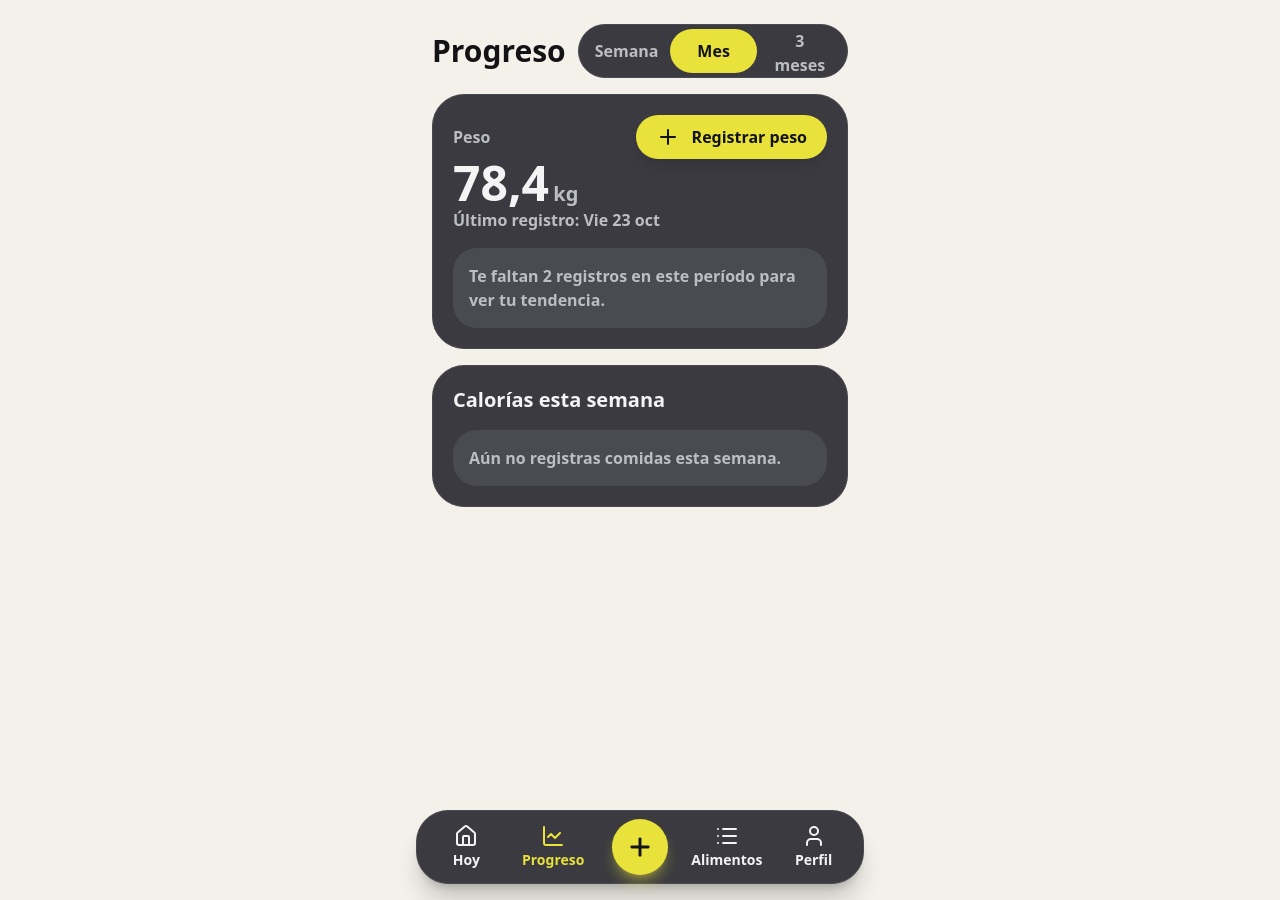
Scenario: ProgressPage › Registrar peso › saves today’s weight as an upsert, with a decimal comma (HU-13 CA1)
This screenshot has width=1280, height=900.
Click the button "Registrar peso".
click(731, 137)  # box [636,115,827,159]
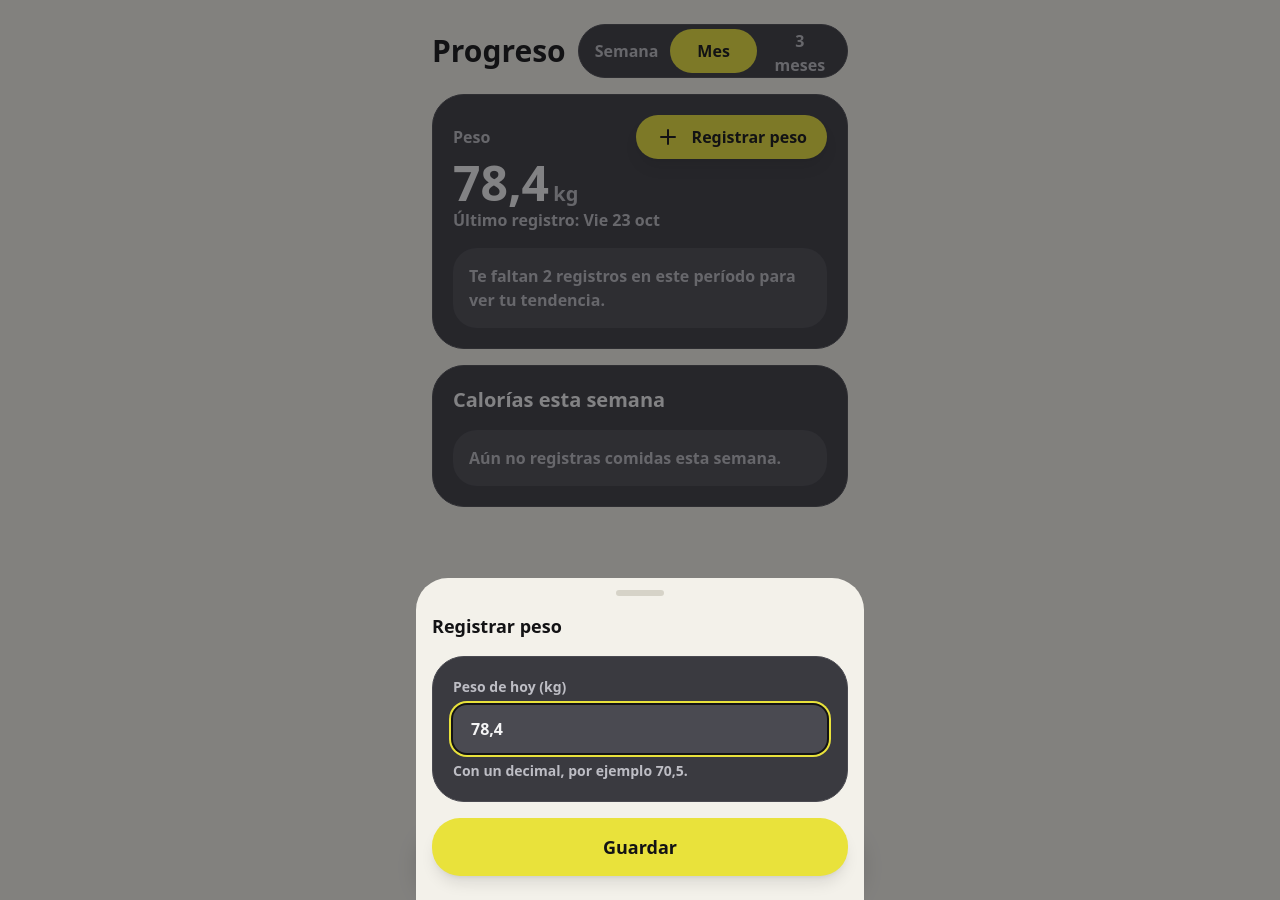
Expected: the field labelled "Peso de hoy (kg)" holds "78,4"
Replace the text in the field labelled "Peso de hoy (kg)" with "77,9" at [640, 729], box [453,705,827,753]
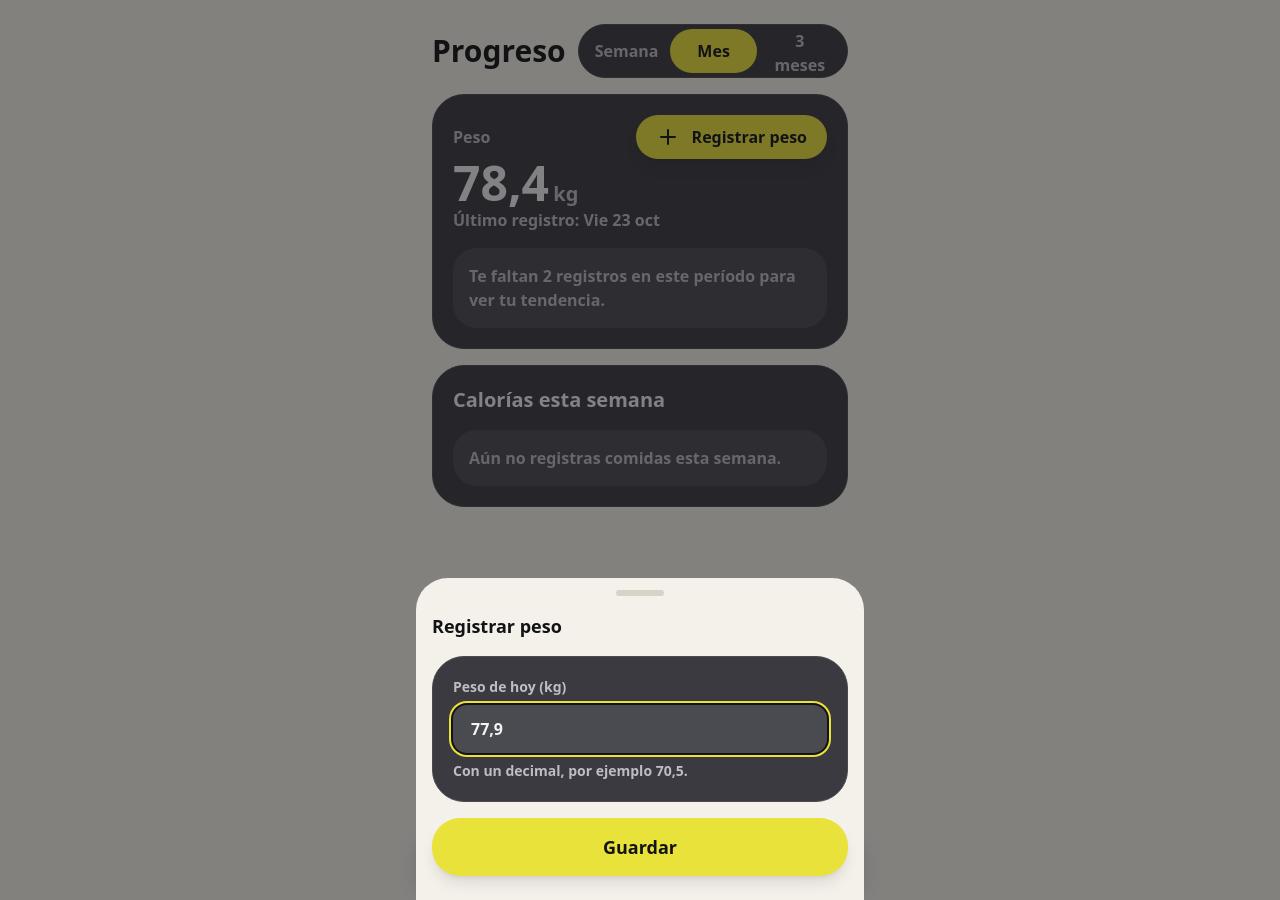
Click the button "Guardar".
click(640, 847)  # box [432,818,848,876]
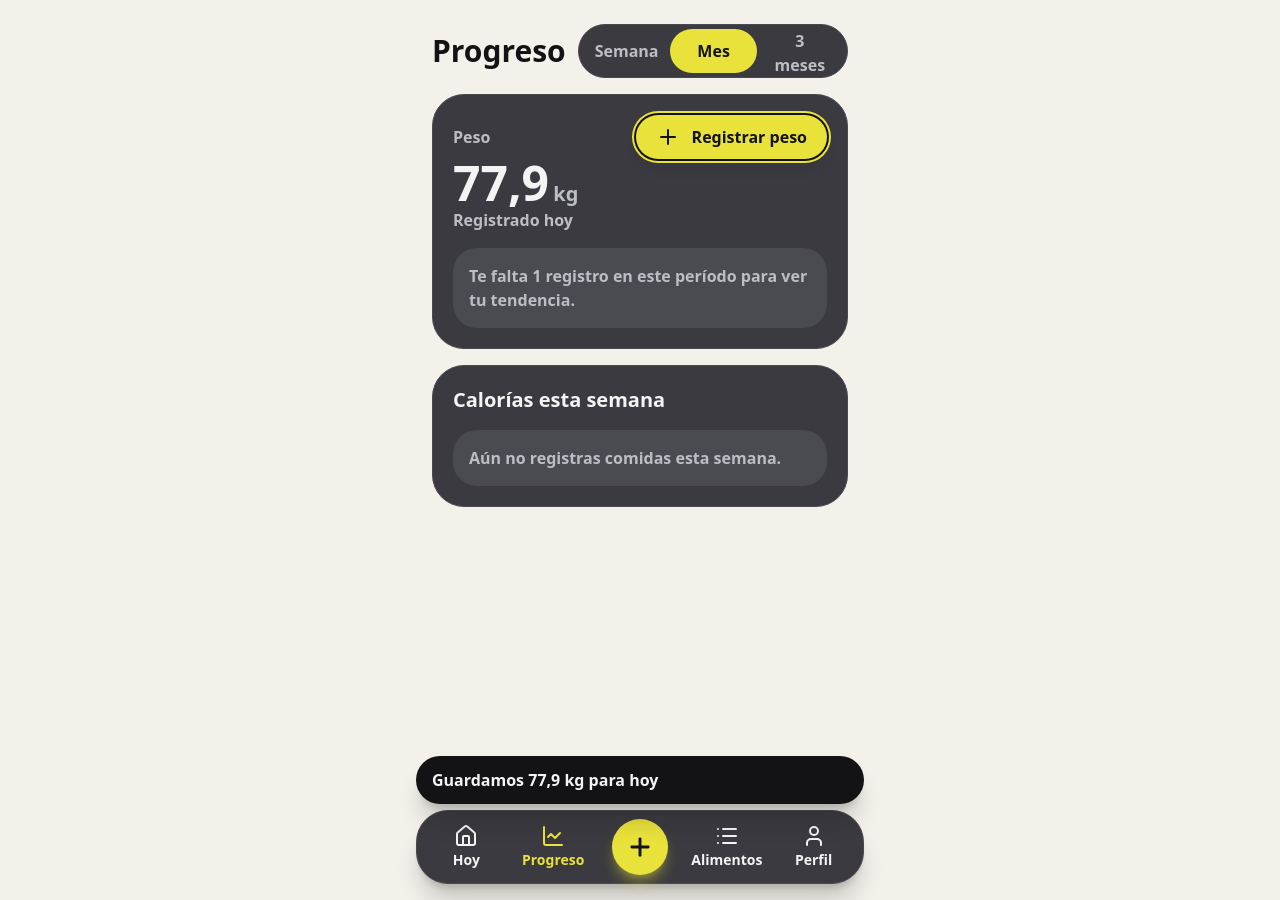
Expected: the text "Guardamos 77,9 kg para hoy" is shown, [432,768,658,792]
Expected: the text "Registrado hoy" is shown, [453,209,573,231]
